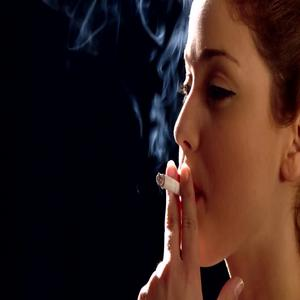cigarette: (152, 167, 193, 199)
